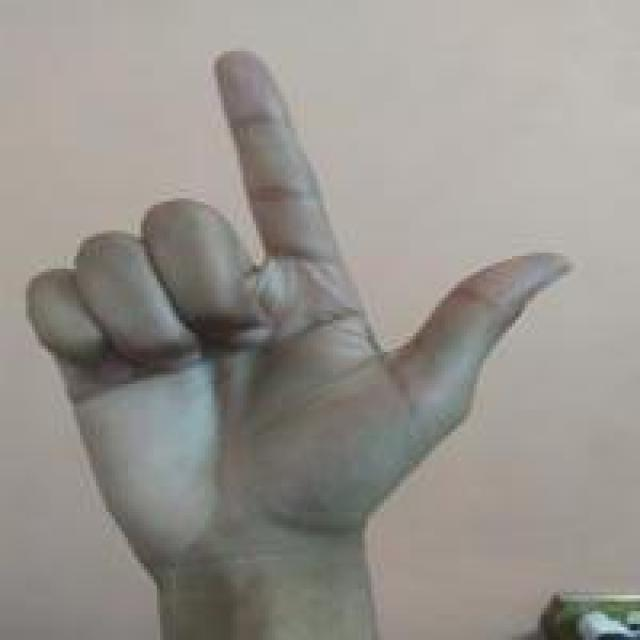L: (18, 44, 578, 554)
